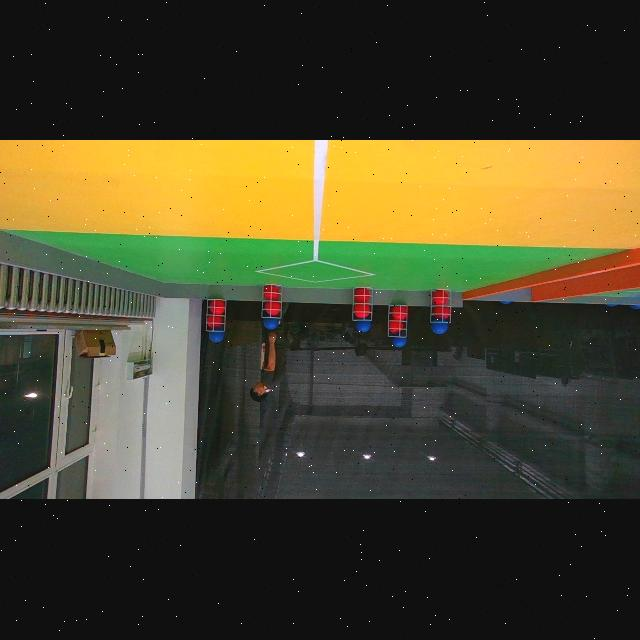B: (262, 314, 278, 330), (431, 320, 447, 334), (208, 330, 226, 342), (356, 319, 370, 333), (392, 336, 406, 348)
R: (354, 304, 370, 318), (354, 290, 370, 304), (264, 287, 280, 301), (264, 302, 280, 316), (210, 301, 226, 315), (432, 306, 450, 318), (388, 321, 404, 334), (208, 316, 222, 330), (432, 292, 448, 304), (392, 308, 406, 320)
S: (260, 286, 284, 330), (429, 290, 453, 334), (352, 288, 374, 332), (205, 300, 228, 342), (387, 306, 409, 348)
